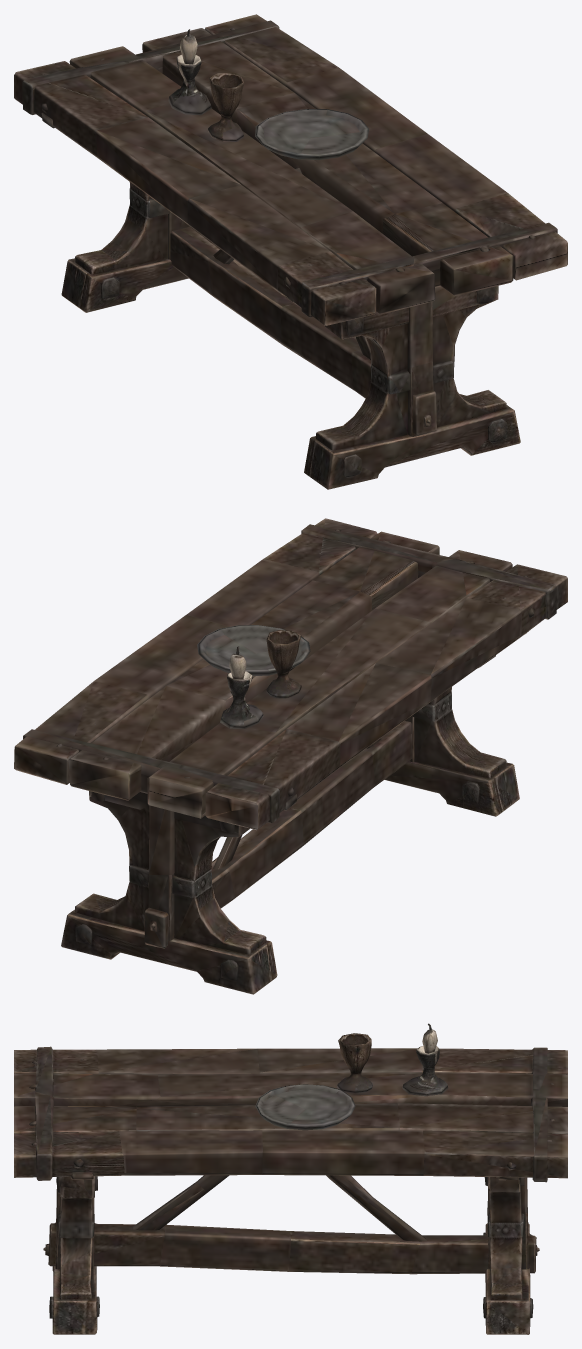
Rendered from d_table_long_decorated_A.glb.
3 views of the same model, one above another, from view 1: azimuth 30°, elevation 25°; view 2: azimuth 150°, elevation 25°; view 3: azimuth 270°, elevation 25° (orthographic). The views are drawn at different scales.
Visible parts, largest first — view 1: d_table_long_decorated_A; view 2: d_table_long_decorated_A; view 3: d_table_long_decorated_A.
Part boxes in pixels (box(x1,y1,x2,y2)): d_table_long_decorated_A: box(14, 14, 567, 489); d_table_long_decorated_A: box(14, 518, 567, 994); d_table_long_decorated_A: box(14, 1023, 567, 1334).
Bounding box in the file's own units: 1.71 × 1.89 × 3.65.
Materials: 1 (1 with a texture image).
